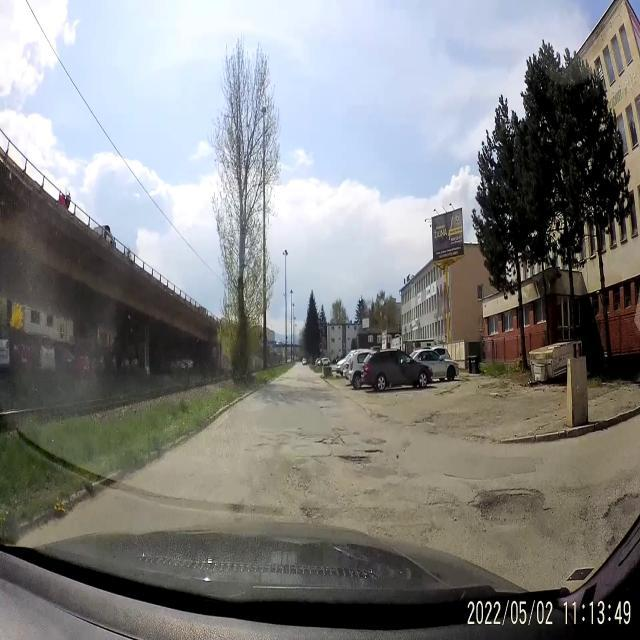Manhole: (362, 432, 388, 450)
Pothole: (463, 477, 553, 533), (602, 484, 640, 560), (336, 452, 374, 474), (296, 504, 322, 518), (356, 444, 384, 456), (314, 434, 332, 448), (332, 426, 349, 436), (332, 436, 347, 447)
